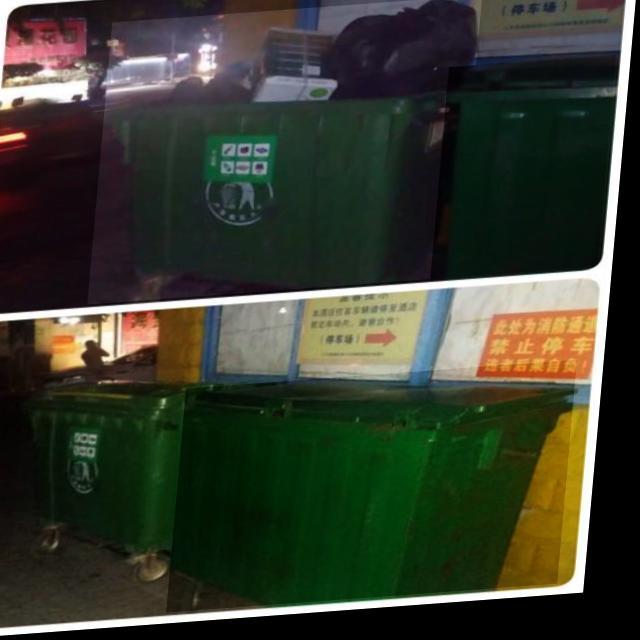garbage_bin: (178, 369, 585, 616), (436, 65, 618, 286), (21, 372, 195, 562)
overflow: (93, 3, 483, 306)
